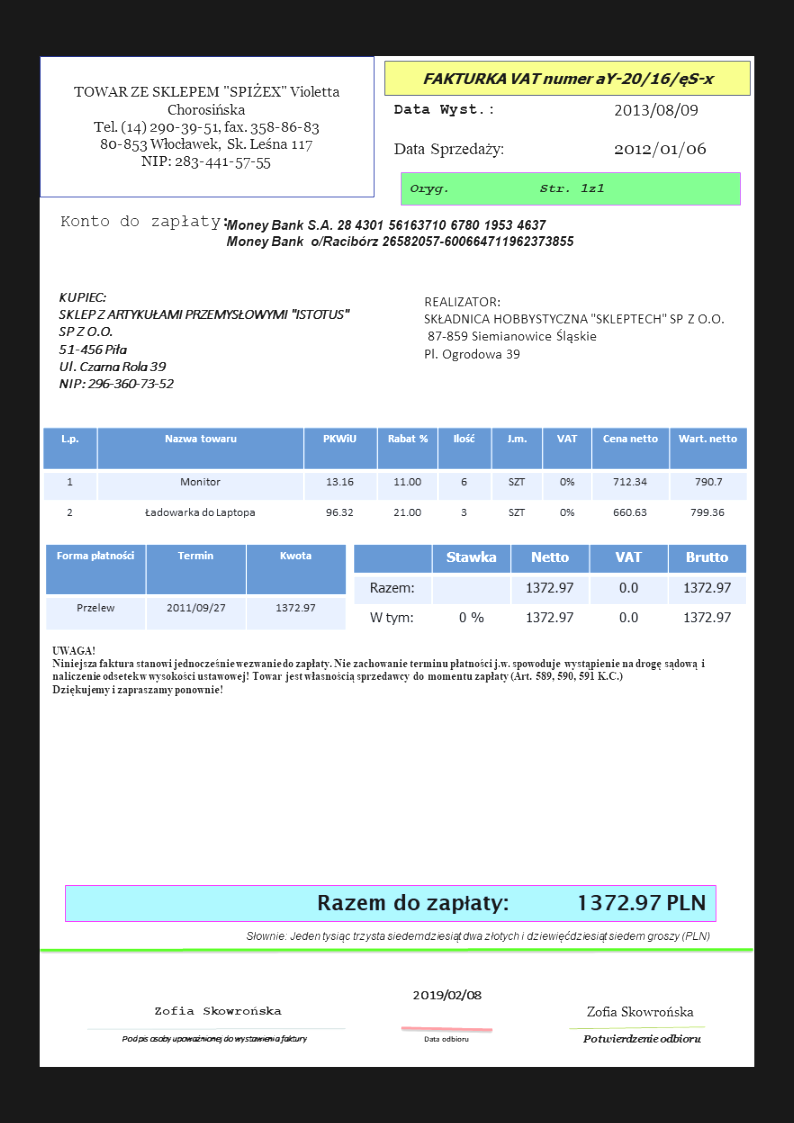Table: (42, 424, 750, 532), (352, 542, 749, 638), (44, 542, 348, 632)
TextBox: (48, 639, 710, 699), (55, 288, 354, 395), (67, 80, 345, 175), (419, 291, 727, 365), (312, 885, 708, 918), (222, 216, 577, 250), (242, 926, 712, 944), (420, 65, 721, 89), (407, 176, 608, 197), (56, 212, 229, 233), (389, 138, 505, 159), (119, 1032, 311, 1044), (389, 98, 497, 119), (609, 137, 708, 159), (151, 1002, 284, 1018), (611, 98, 702, 121), (584, 1002, 700, 1020), (579, 1033, 704, 1045), (410, 985, 485, 1003), (420, 1031, 472, 1048)
